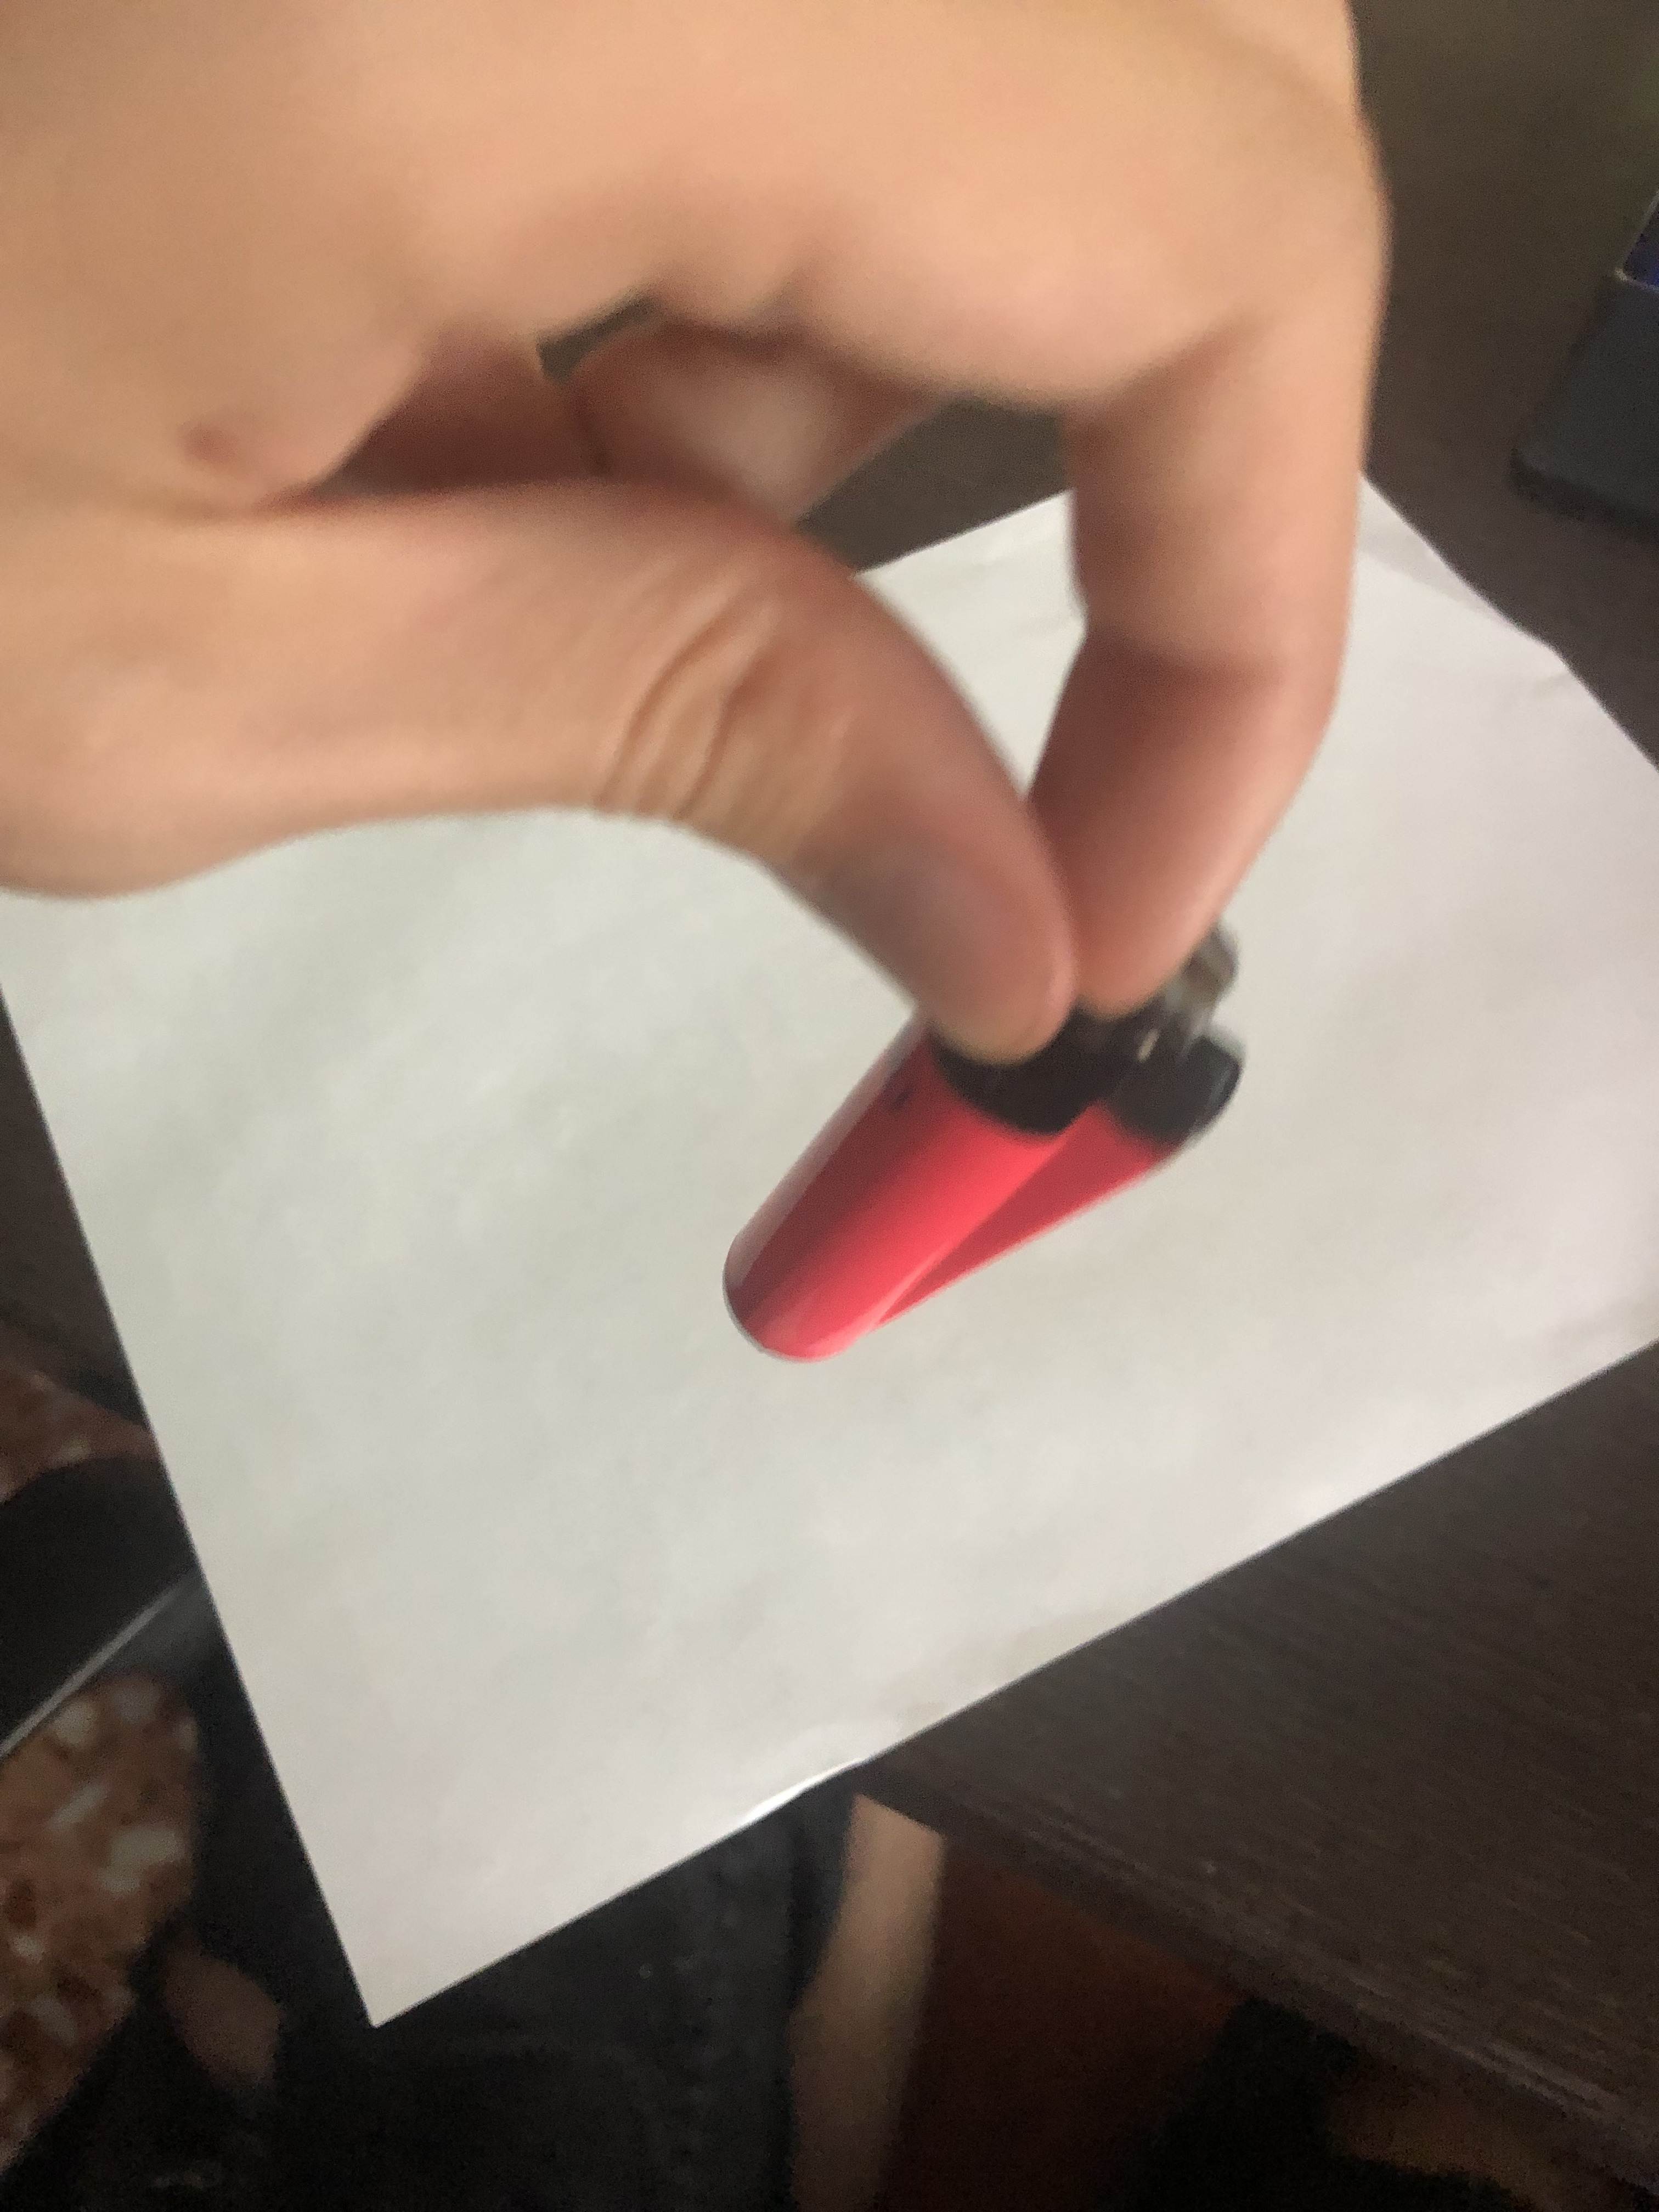Mechero: (708, 897, 1246, 1383)
